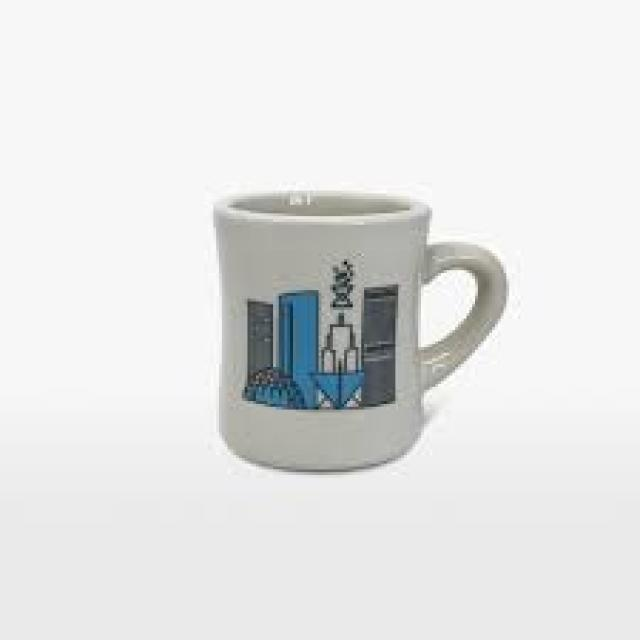taza: (212, 185, 508, 476)
